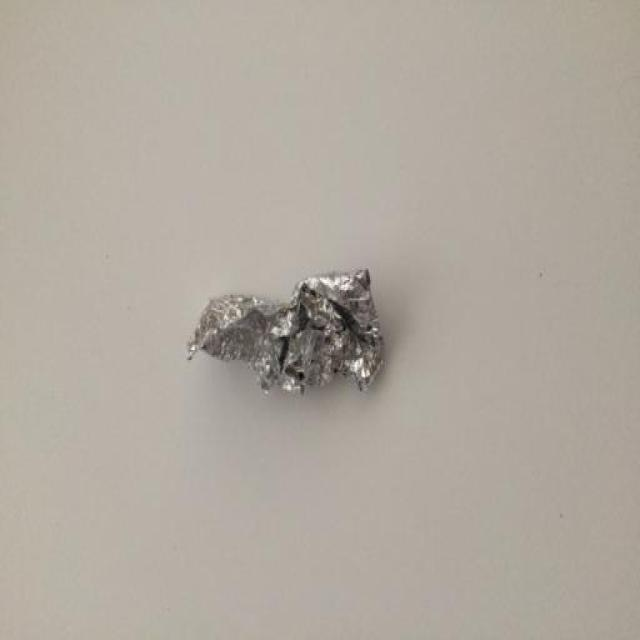Metal: (186, 268, 386, 393)
